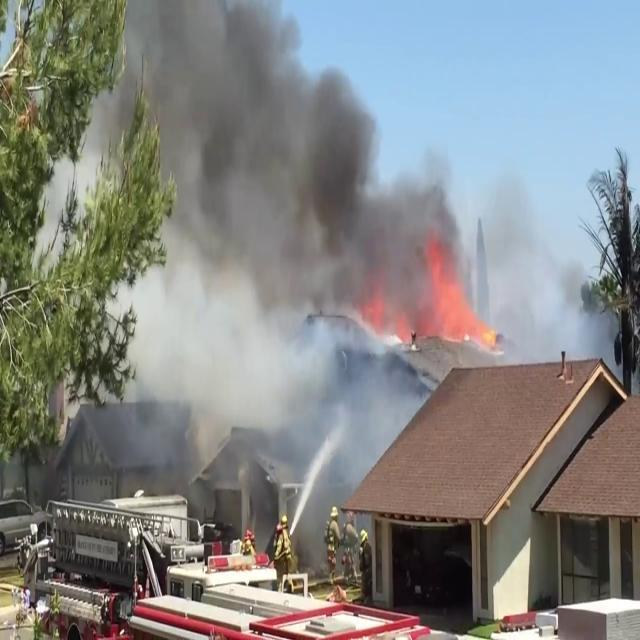Fire: (418, 236, 499, 348)
Smoke: (49, 0, 458, 346), (474, 160, 608, 367)
